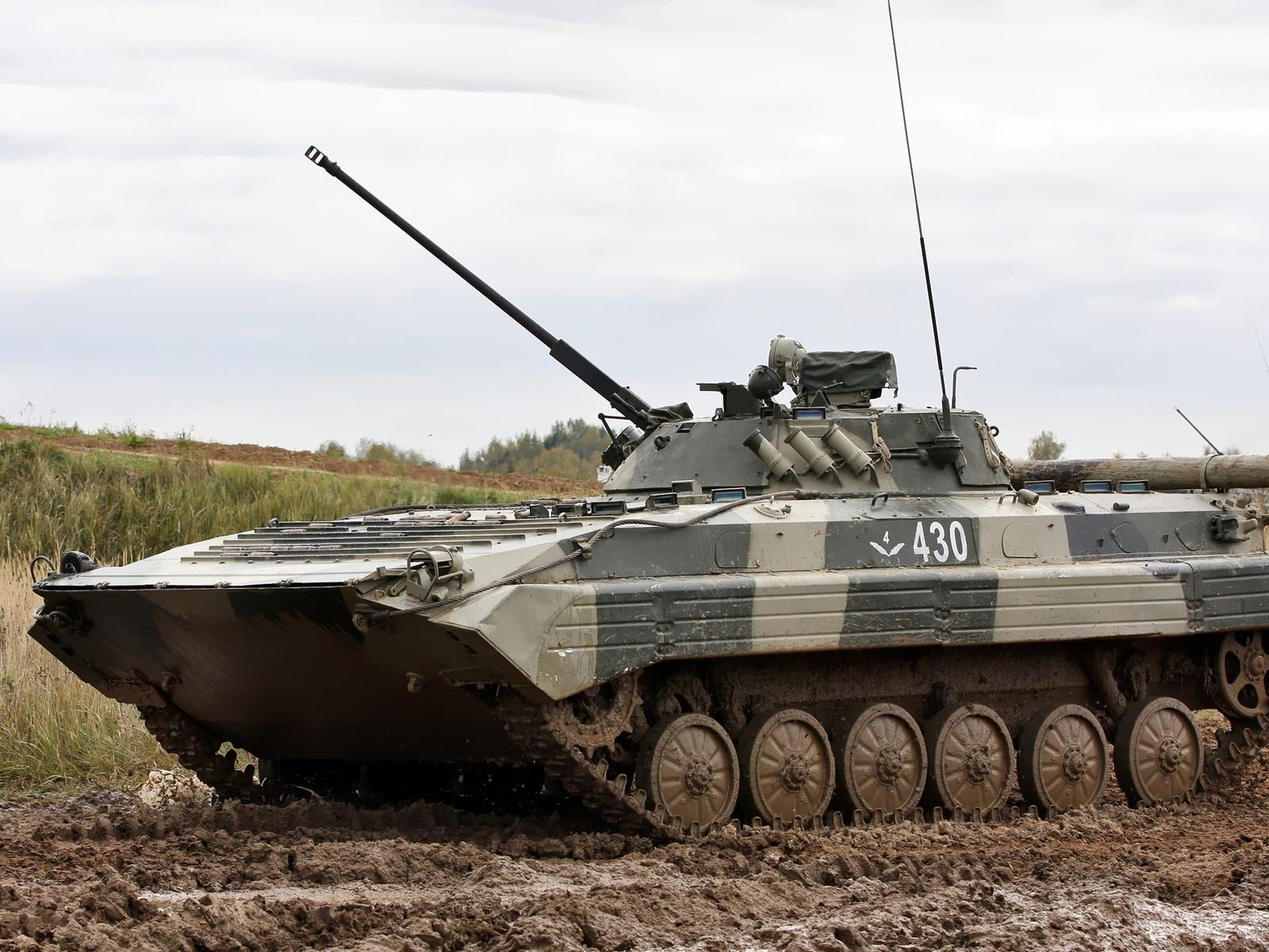tank: (25, 143, 1269, 846)
